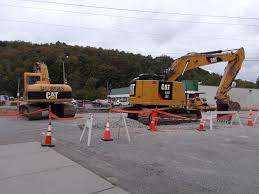excavator: (125, 42, 252, 126), (17, 61, 83, 120)
